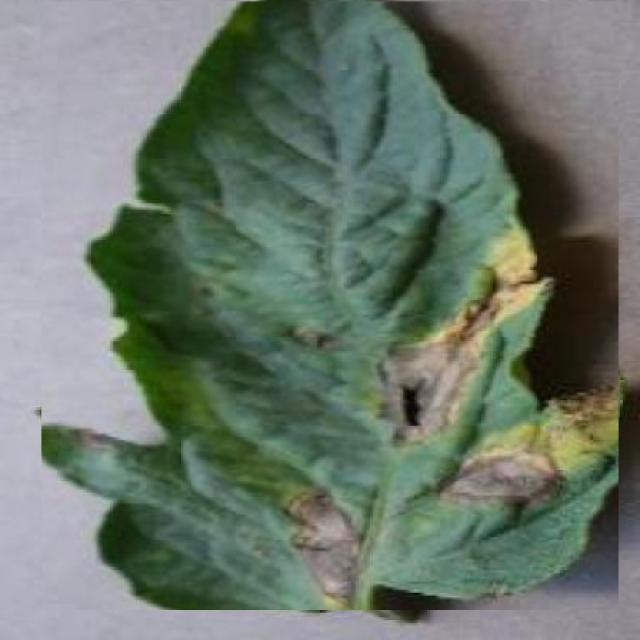Early Blight: (42, 1, 619, 610)
